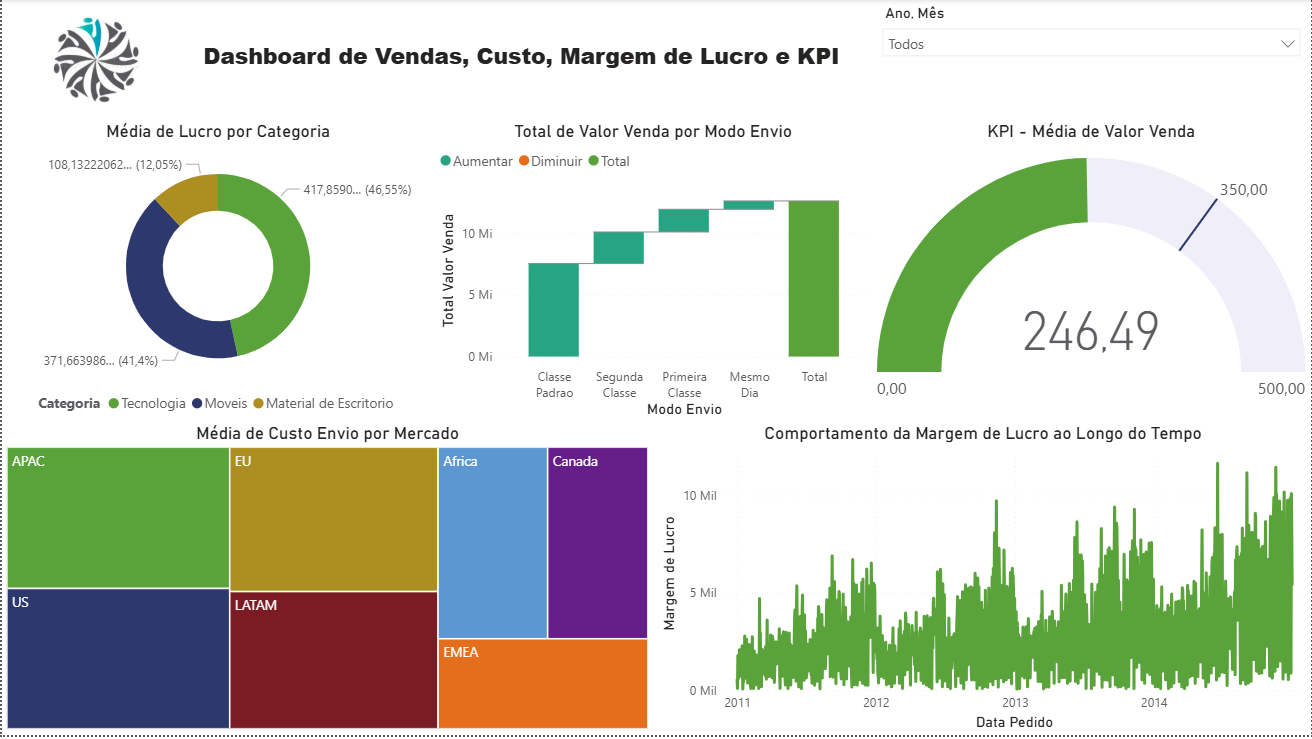

The dashboard page shown, as its layout file describes it:
{"tool":"powerbi","page":{"name":"Página 1","canvas":[1280,720],"ordinal":0},"visuals":[{"type":"waterfallChart","title":"Total de Valor Venda por Modo Envio","fields":{"Y":["Sum(Vendas.Valor Venda)"],"Category":["Pedidos.Modo Envio"]},"box":[423.1,118.6,428,295.9],"z":0},{"type":"treemap","fields":{"Group":["Clientes.Mercado"],"Values":["Avg(Vendas.Custo Envio)"]},"box":[0,414.5,637.1,304.5],"z":1000},{"type":"gauge","title":"KPI - Média de Valor Venda","fields":{"Y":["Avg(Vendas.Valor Venda)"]},"box":[851.1,118.6,429.2,295.9],"z":2000},{"type":"donutChart","fields":{"Category":["Produtos.Categoria"],"Y":["Avg(Vendas.Lucro)"]},"box":[0,118.6,423.1,295.9],"z":3000},{"type":"lineChart","title":"Comportamento da Margem de Lucro ao Longo do Tempo","fields":{"Y":["Sum(Vendas.MargemLucro)"],"Category":["Pedidos.Data Pedido.Variation.Hierarquia de datas.Ano"]},"box":[639.5,414.5,640.8,305.7],"z":4000},{"type":"textbox","box":[192,0,635.9,118.6],"z":5000},{"type":"slicer","fields":{"Values":["Pedidos.Ano","Pedidos.Data Pedido.Variation.Hierarquia de datas.Mês"]},"box":[851.1,0,429.2,118.6],"z":6000},{"type":"image","box":[0,0,192,118.6],"z":7000}]}

Visuals, with their boxes in screenshot pixels (x1, y1, x2, y2), scaled from the page's 1280x720 canvas onto the 1312x739 screenshot:
"Total de Valor Venda por Modo Envio" waterfallChart: [x1=434, y1=122, x2=872, y2=425]
treemap - Clientes.Mercado x Avg(Vendas.Custo Envio): [x1=0, y1=425, x2=653, y2=738]
"KPI - Média de Valor Venda" gauge: [x1=872, y1=122, x2=1311, y2=425]
donutChart - Produtos.Categoria x Avg(Vendas.Lucro): [x1=0, y1=122, x2=434, y2=425]
"Comportamento da Margem de Lucro ao Longo do Tempo" lineChart: [x1=655, y1=425, x2=1311, y2=738]
textbox: [x1=197, y1=0, x2=849, y2=122]
slicer - Pedidos.Ano x Pedidos.Data Pedido.Variation.Hierarquia de datas.Mês: [x1=872, y1=0, x2=1311, y2=122]
image: [x1=0, y1=0, x2=197, y2=122]
